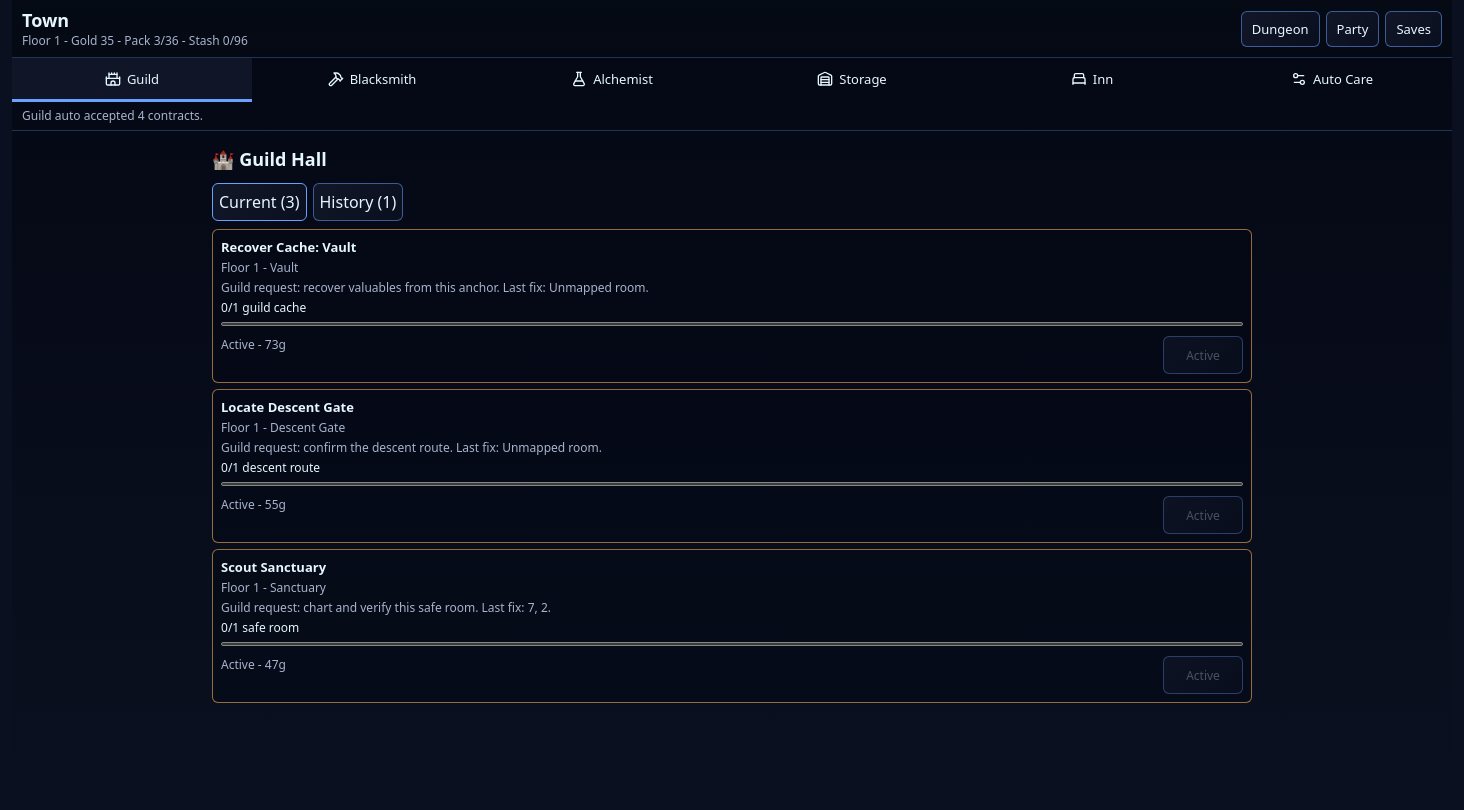
Test: focused town navigation › keeps completed history out of current contracts and retains its filter across services
This screenshot has width=1464, height=810.
Expected: the text "Archived commission" is not shown
Click the button "History (1)". click: (358,202)
box: [312,183,403,221]
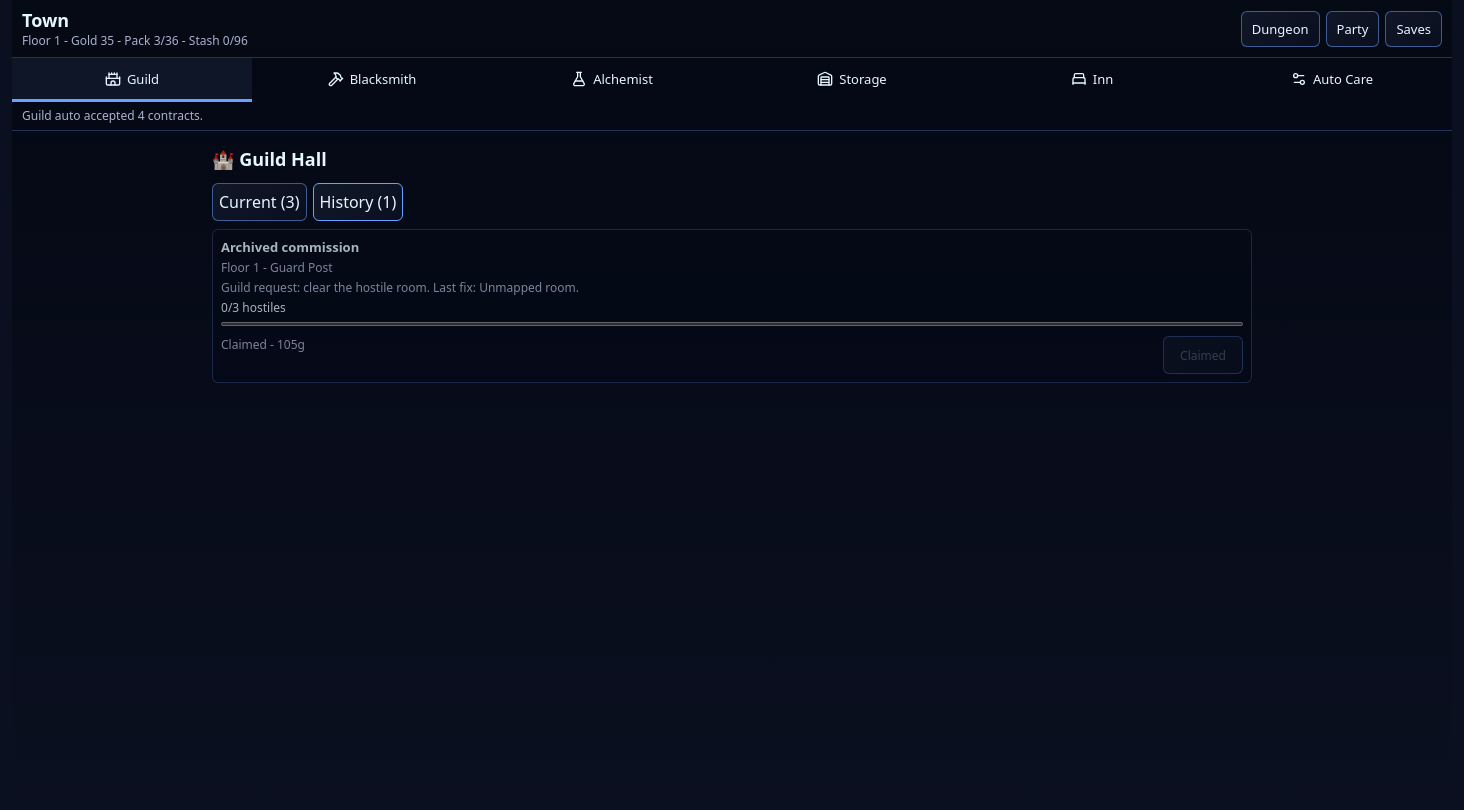
Now the text "Archived commission" is shown, box [221,238,359,256]
Now the number of buttons "Claimed" is 1, box [1163,336,1243,374]
Click the tab "Inn". click: (1092,80)
box: [972,58,1212,102]
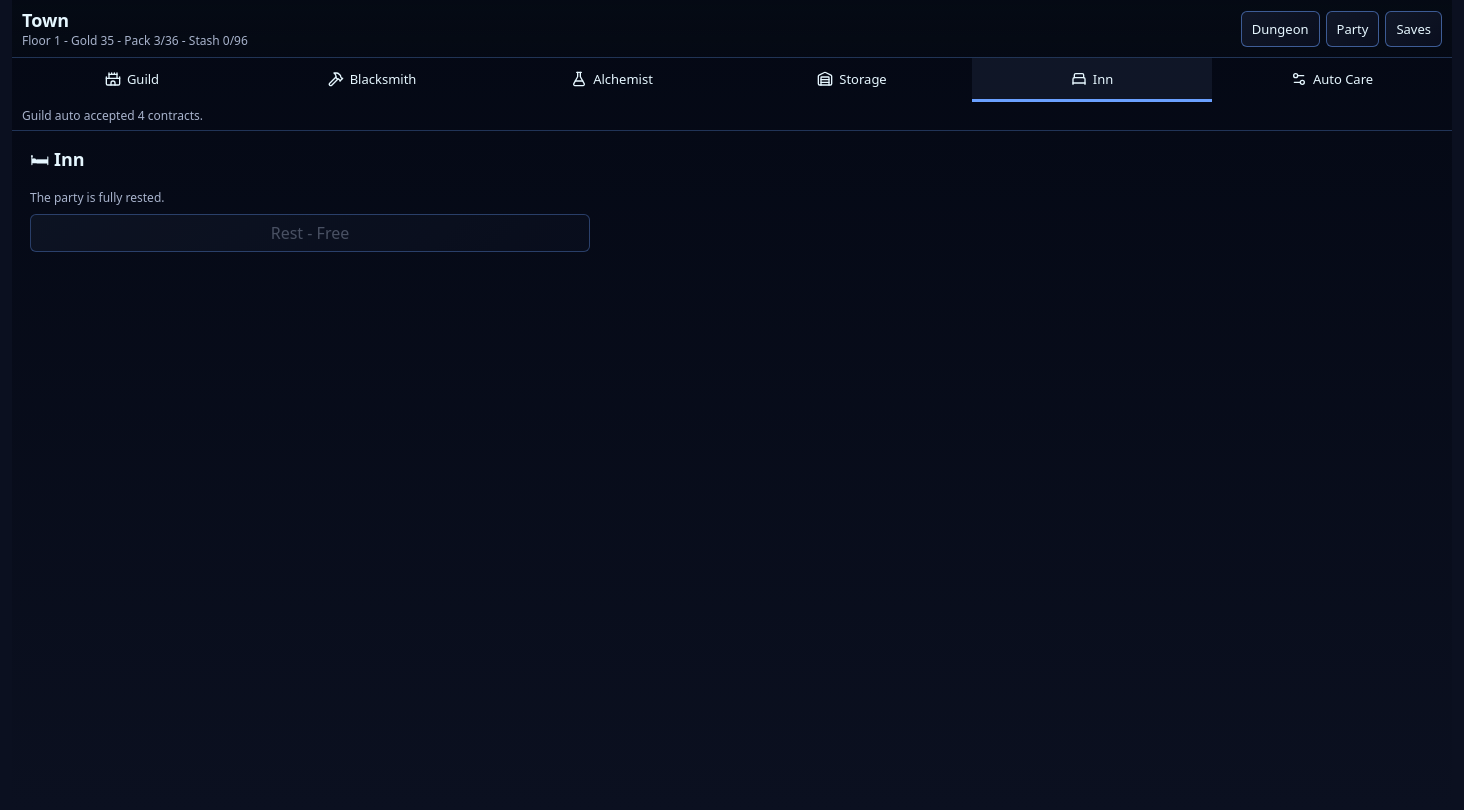
Click the tab "Guild". click: (132,80)
box: [12,58,252,102]
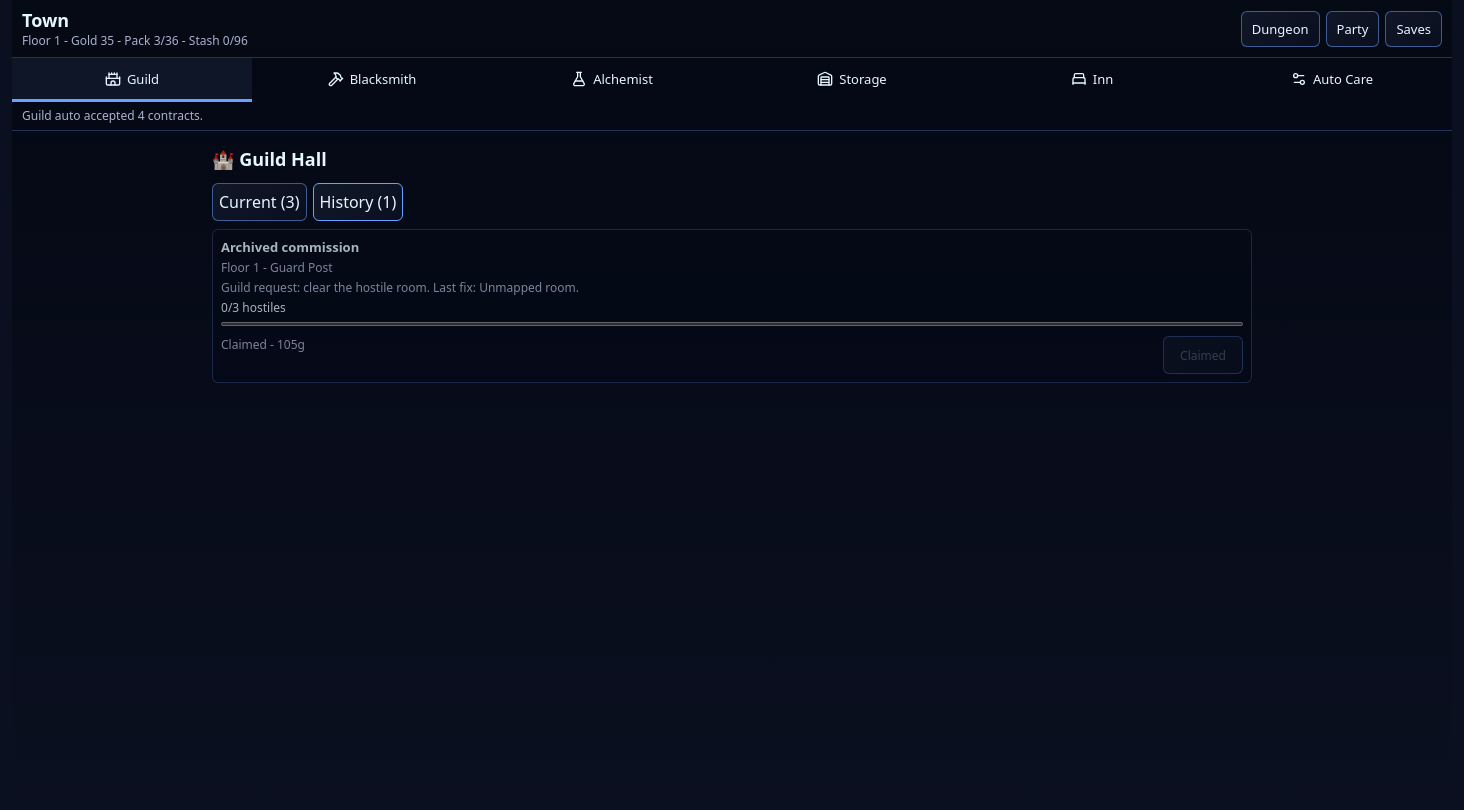
Now the text "Archived commission" is shown, box [221,238,359,256]
Click the button "Current (3)". click: (259,202)
box: [212,183,306,221]
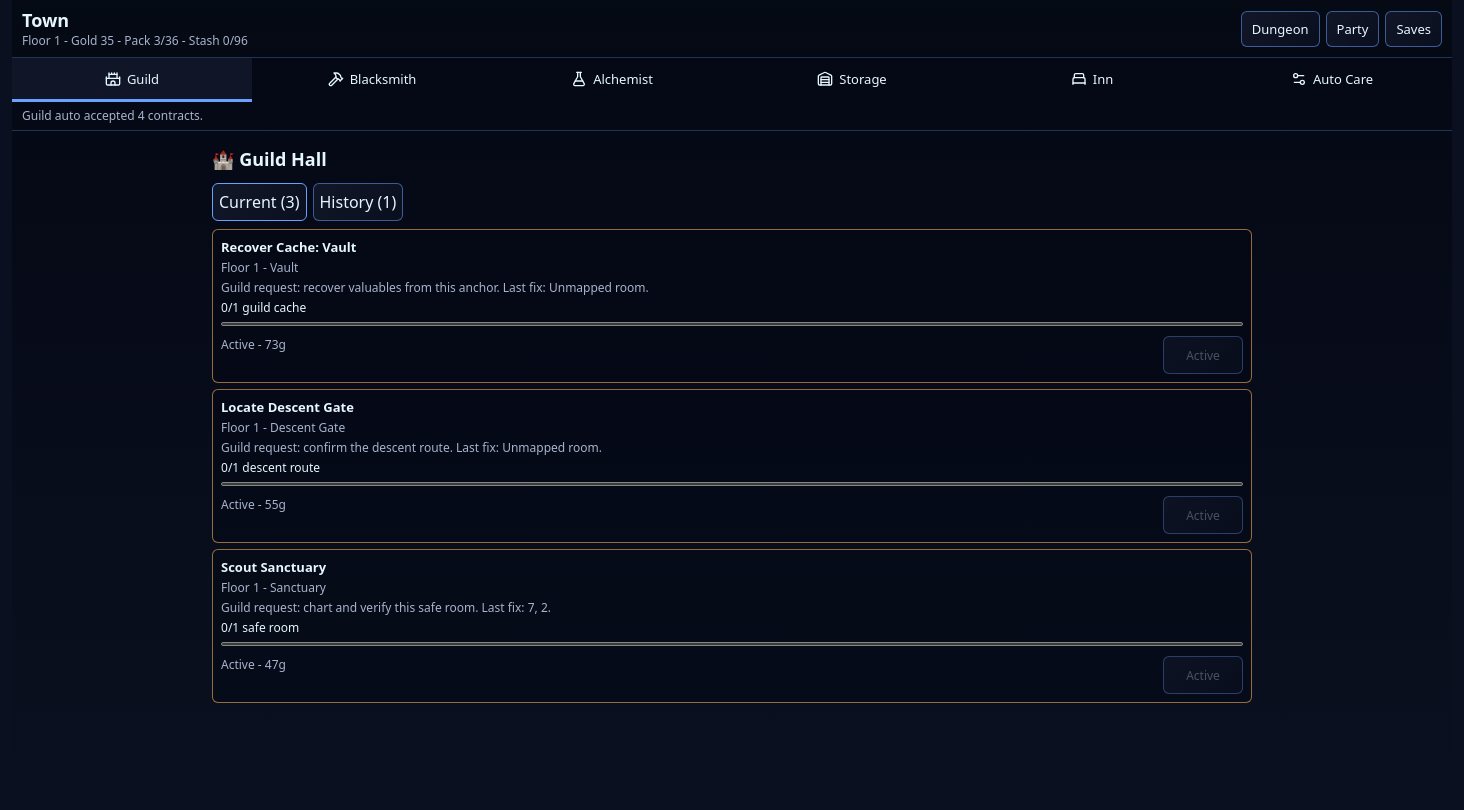
Now the text "Archived commission" is gone
